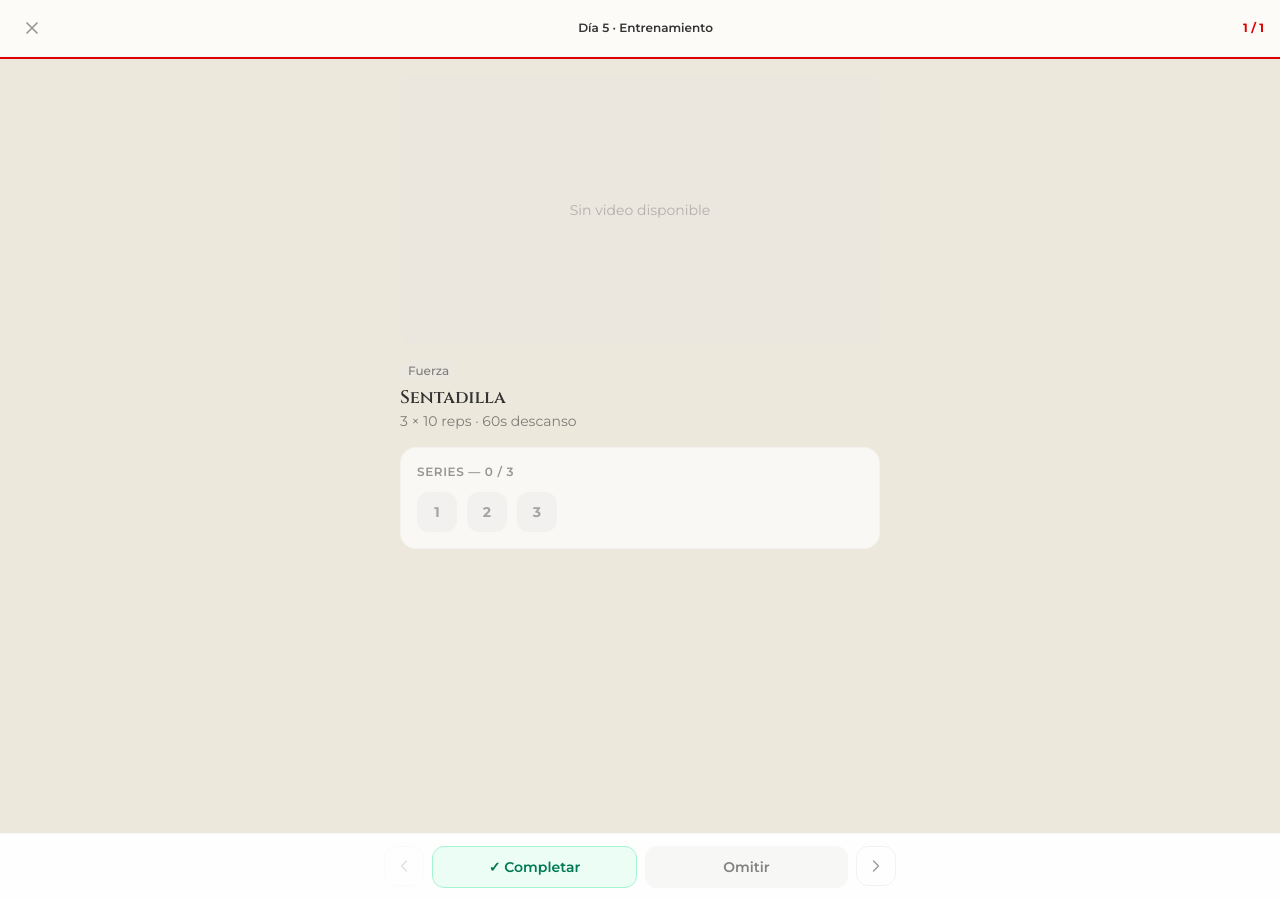
WorkoutSession › completing the last exercise shows the celebration screen
Click the button "✓ Completar": (534, 867) [432,846,637,888]
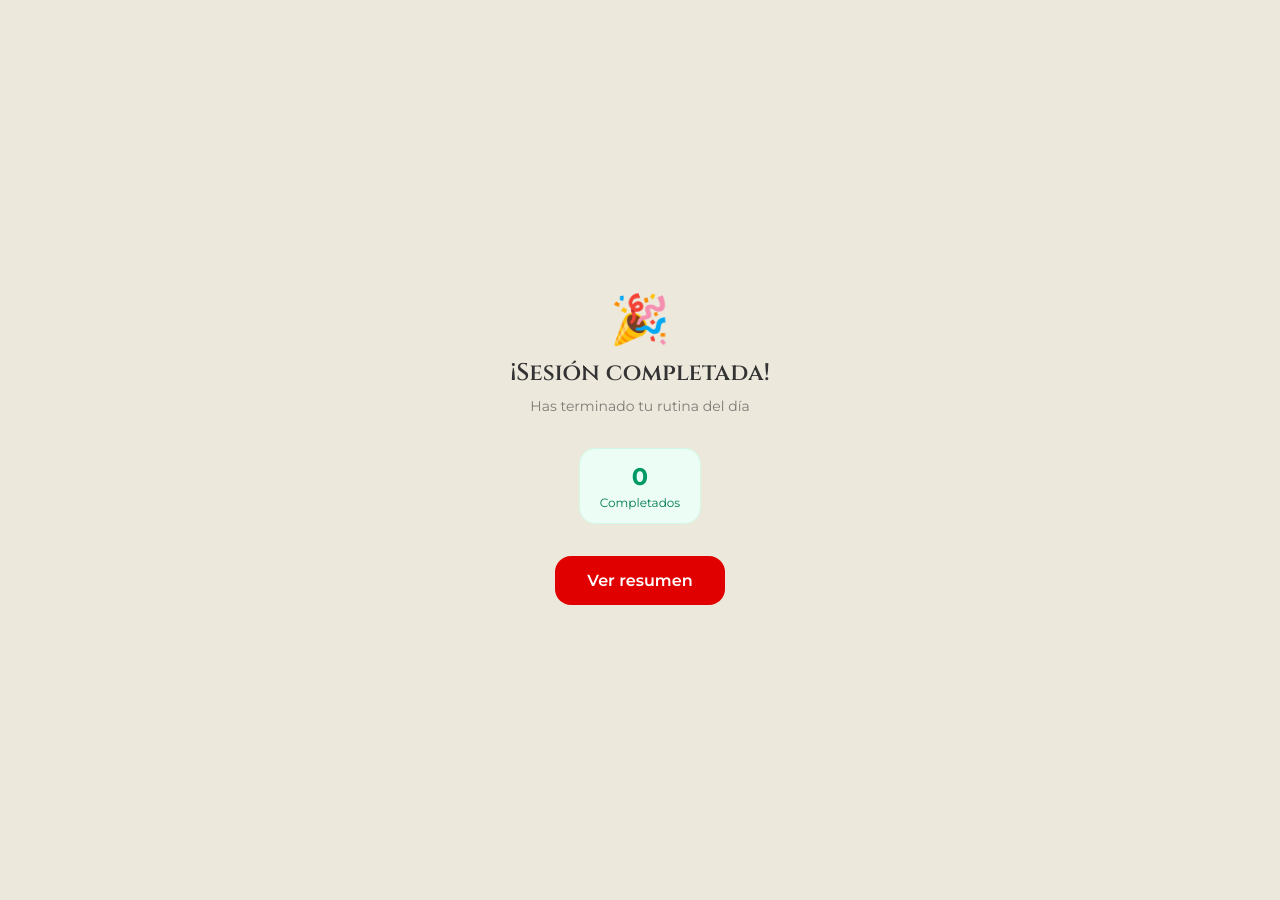
Expected: the text "0" is shown, [632,462,648,491]
Expected: the heading "¡Sesión completada!" is shown, [510,359,770,388]
Expected: the text "Completados" is shown, [600,495,680,511]
